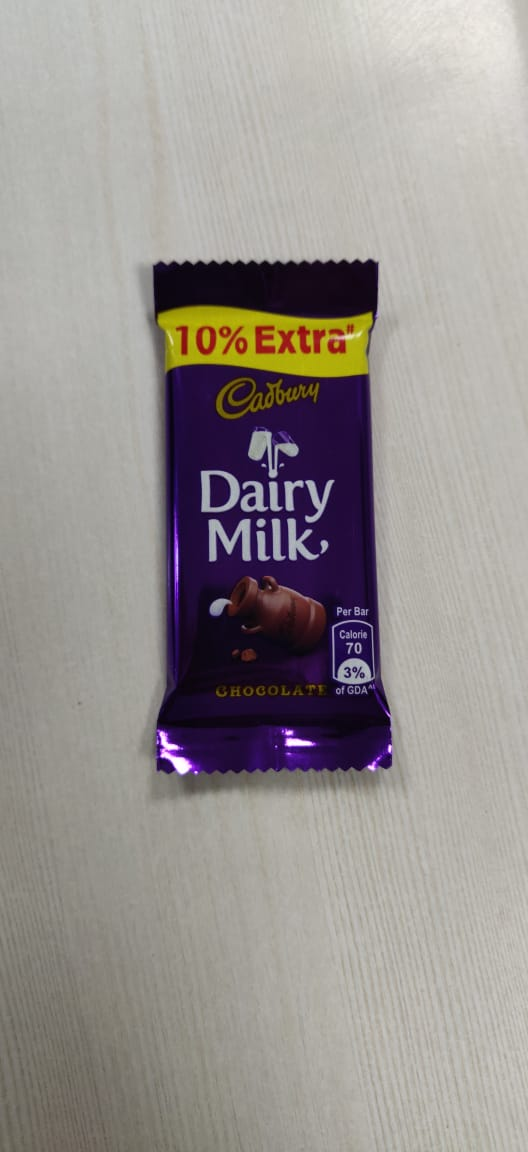dairy milk: (148, 256, 406, 790)
